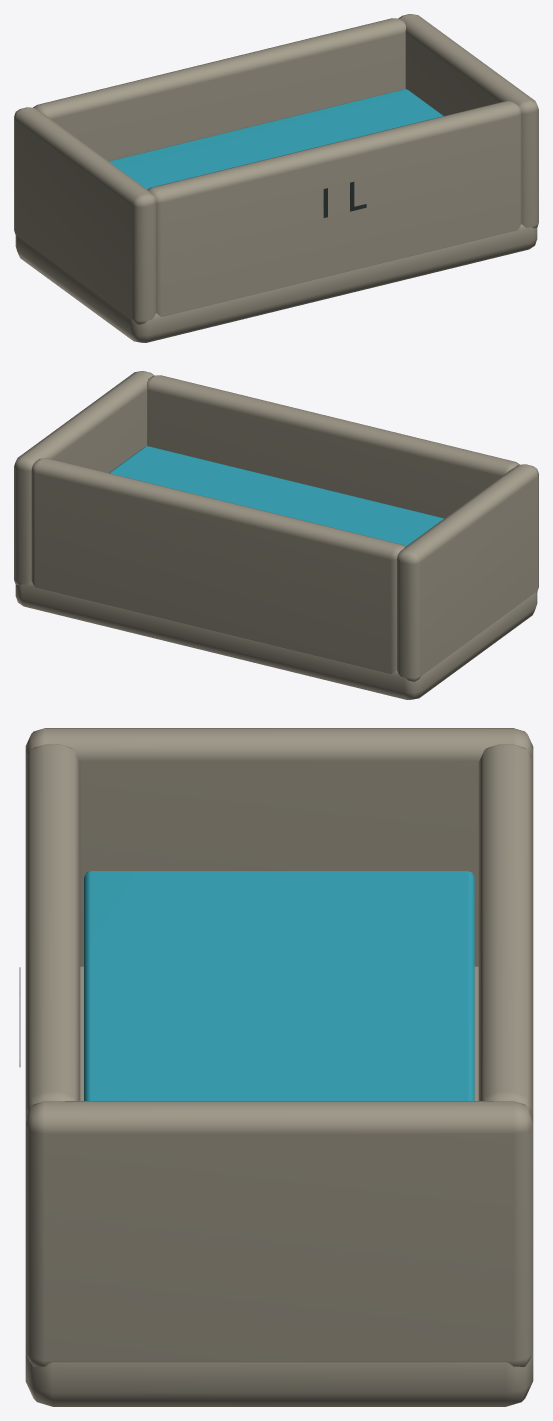
The model's file is SM_Prop_WaterTrough.fbx.
3 views of the same model, one above another, from view 1: azimuth 30°, elevation 25°; view 2: azimuth 150°, elevation 25°; view 3: azimuth 270°, elevation 25° (orthographic). The views are drawn at different scales.
Parts seen in each view (by area): view 1: Trough_side, Trough_side.001, Trough_end, Trough_base, Trough_water, Trough_end.001; view 2: Trough_side.001, Trough_side, Trough_end, Trough_base, Trough_water, Trough_end.001; view 3: Trough_end.001, Trough_water, Trough_end, Trough_base, Trough_side.001, Trough_side.
Boxes of the visible parts, x1,y1,x2,y2 form: Trough_side: (147,101,521,316); Trough_side.001: (33,18,405,161); Trough_end: (14,107,155,324); Trough_base: (15,224,537,342); Trough_water: (109,89,443,189); Trough_end.001: (398,14,538,228); Trough_side.001: (31,458,405,673); Trough_side: (147,375,519,518); Trough_end: (397,464,538,681); Trough_base: (15,581,537,699); Trough_water: (109,446,443,546); Trough_end.001: (14,371,154,585); Trough_end.001: (25,1101,533,1366); Trough_water: (84,871,474,1100); Trough_end: (25,728,533,966); Trough_base: (25,966,533,1406); Trough_side.001: (478,744,533,1118); Trough_side: (25,744,80,1118).
Size of what is drawn, in the model's own units: 120 by 65.74 by 42.5.
